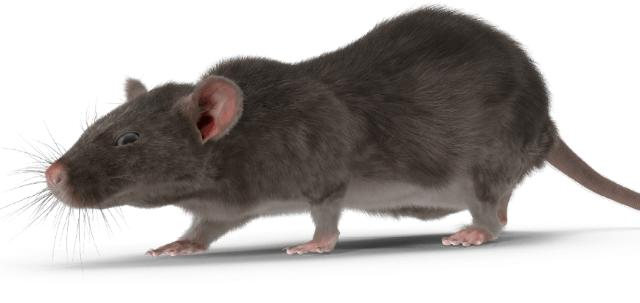rat: (11, 2, 639, 264)
